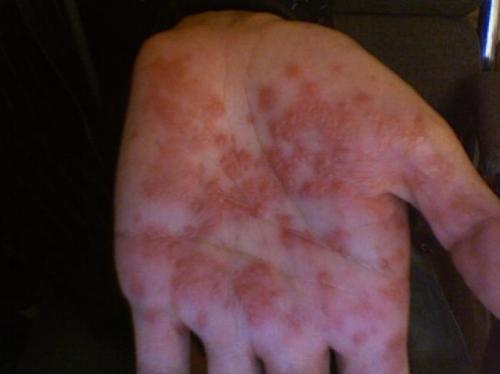Diseased: (134, 39, 436, 350)
